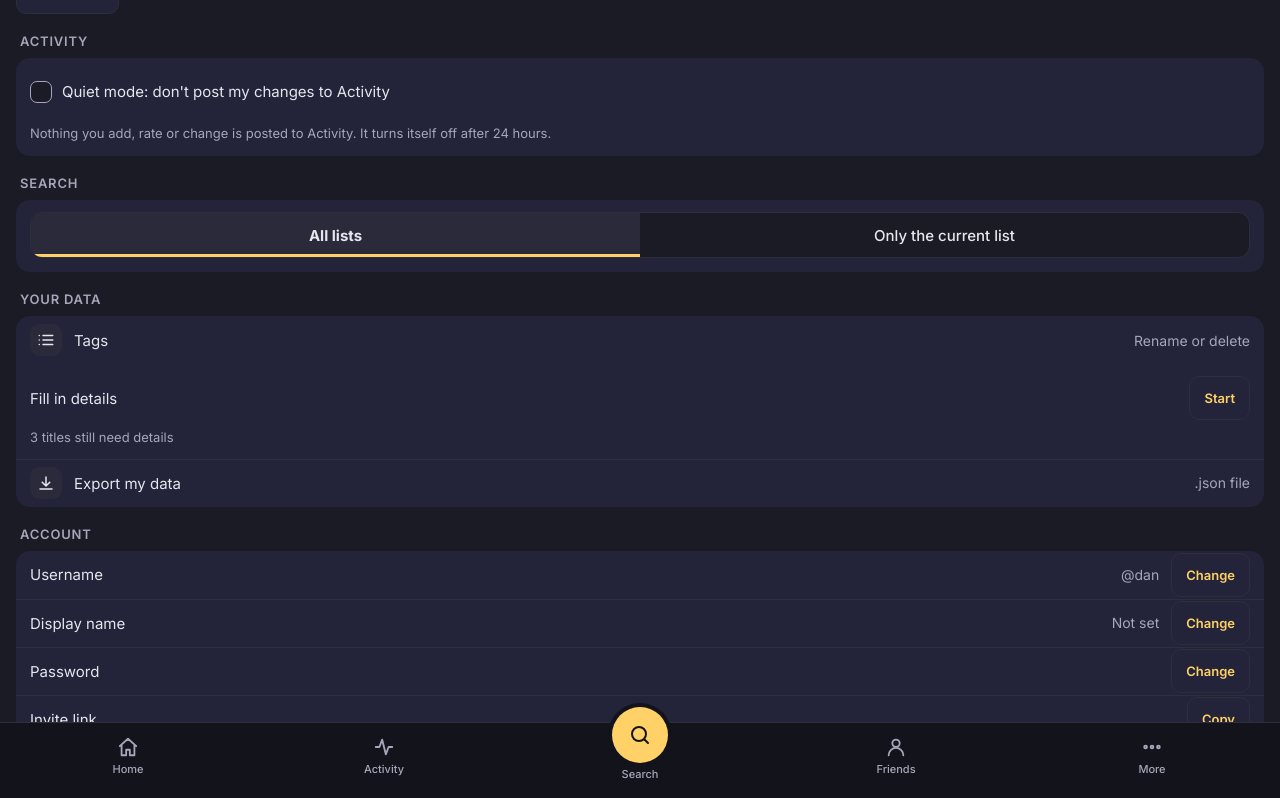
Test case: Settings: Fill in details › shows "N of M · K need you to pick the right match" while running
The width and height of the screenshot is (1280, 798).
(page scrolled)
Click the button "Start": (1220, 398) [1189,376,1250,420]
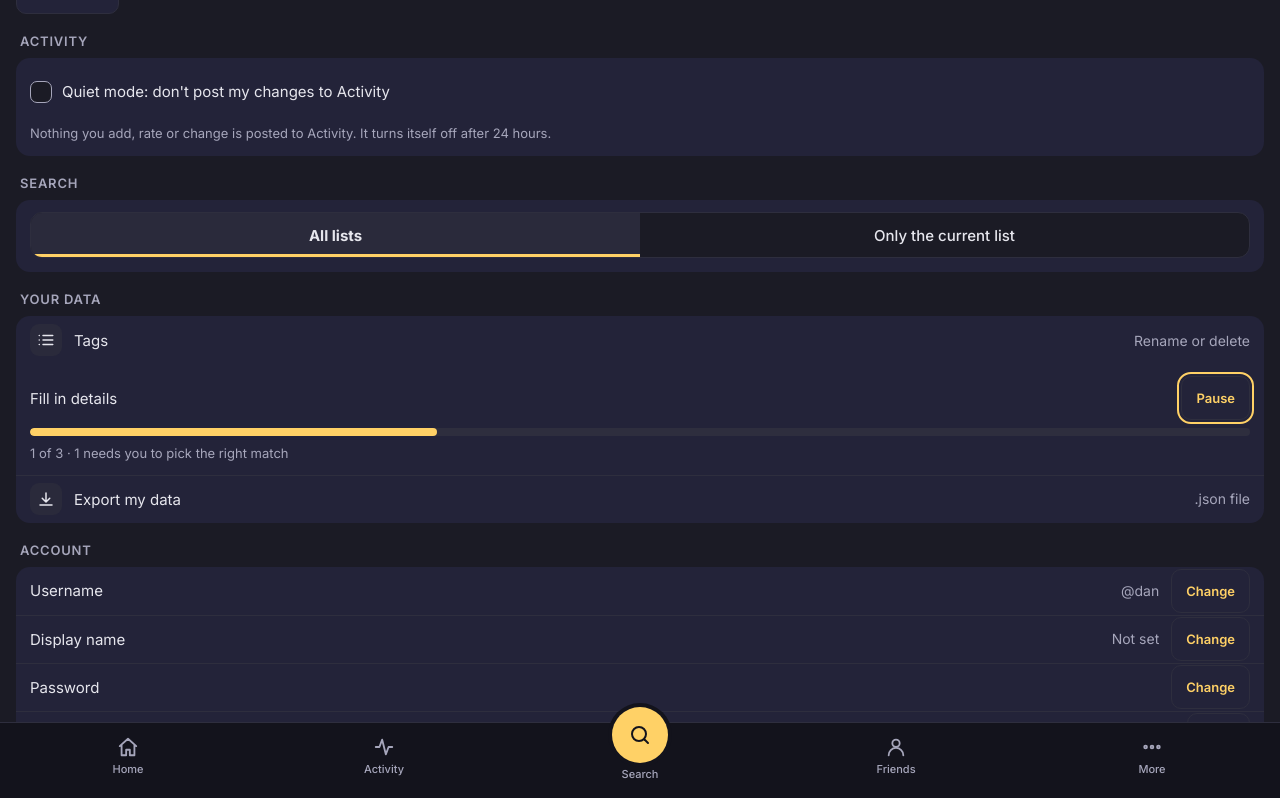
Now the text "1 of 3 · 1 needs you to pick the right match" is shown, box [30,445,288,461]
